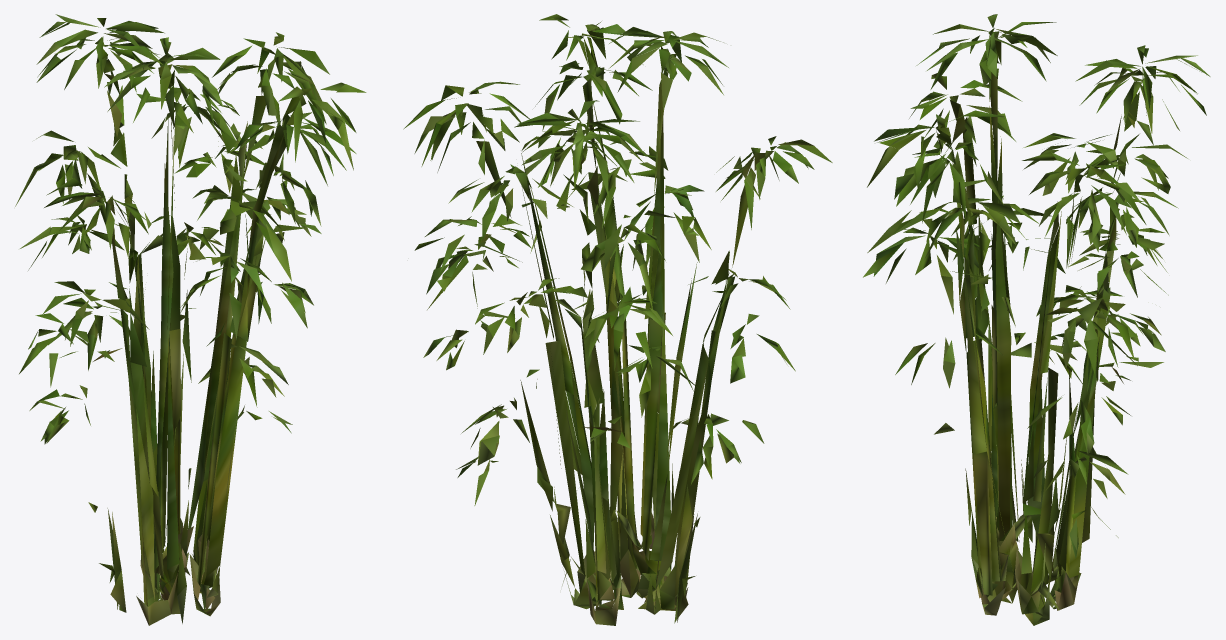
The model's file is bambu_lod2.glb.
3 renders of one model, left to right at view 1: azimuth 30°, elevation 25°; view 2: azimuth 150°, elevation 25°; view 3: azimuth 270°, elevation 25°, orthographic.
Parts seen in each view (by area): view 1: bambu; view 2: bambu; view 3: bambu.
Part boxes in pixels (left/top/right/bottom): bambu: left=15, top=14, right=366, bottom=625; bambu: left=403, top=14, right=832, bottom=625; bambu: left=863, top=14, right=1210, bottom=625.
Bounding box in the file's own units: 4.32 × 7 × 3.88.
Materials: 1 (1 with a texture image).
